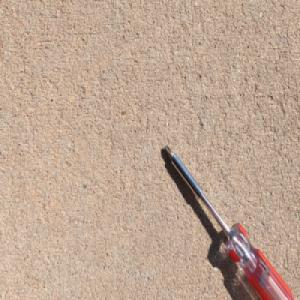Screwdriver: (162, 143, 295, 300)
